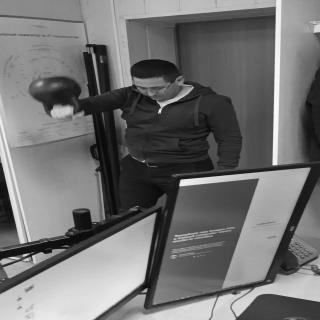girya: (29, 77, 83, 120)
